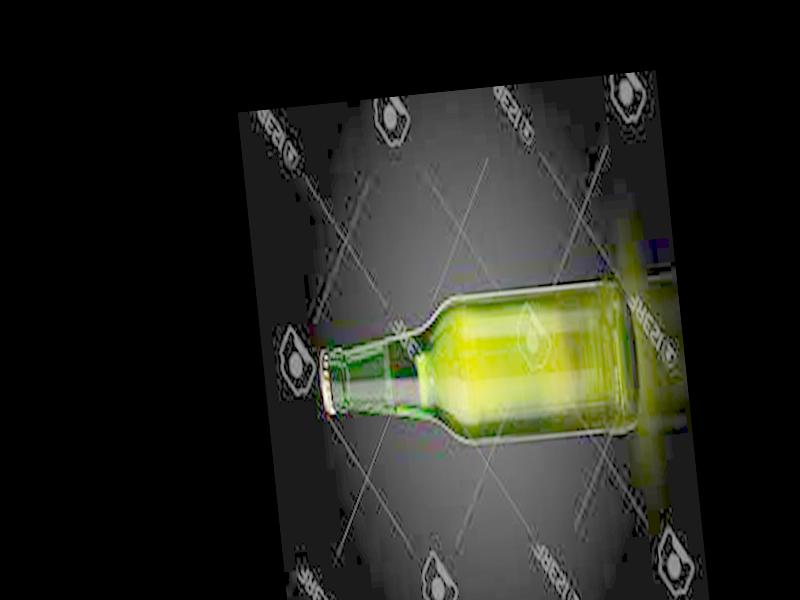Beer: (313, 275, 641, 456)
